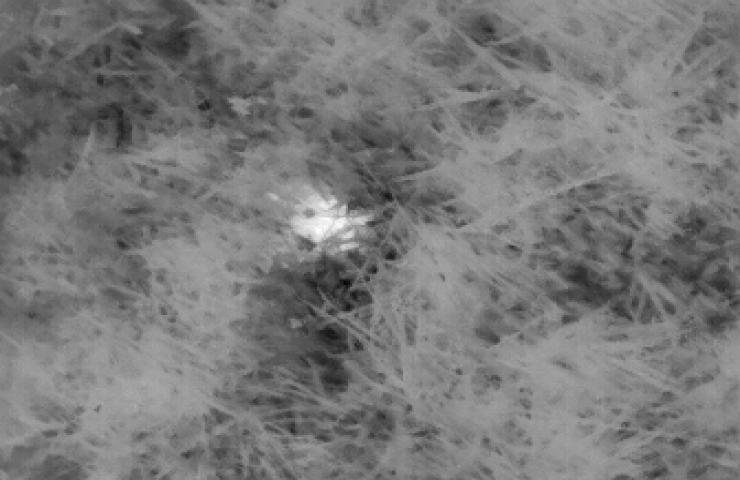landmines: (289, 183, 368, 253)
